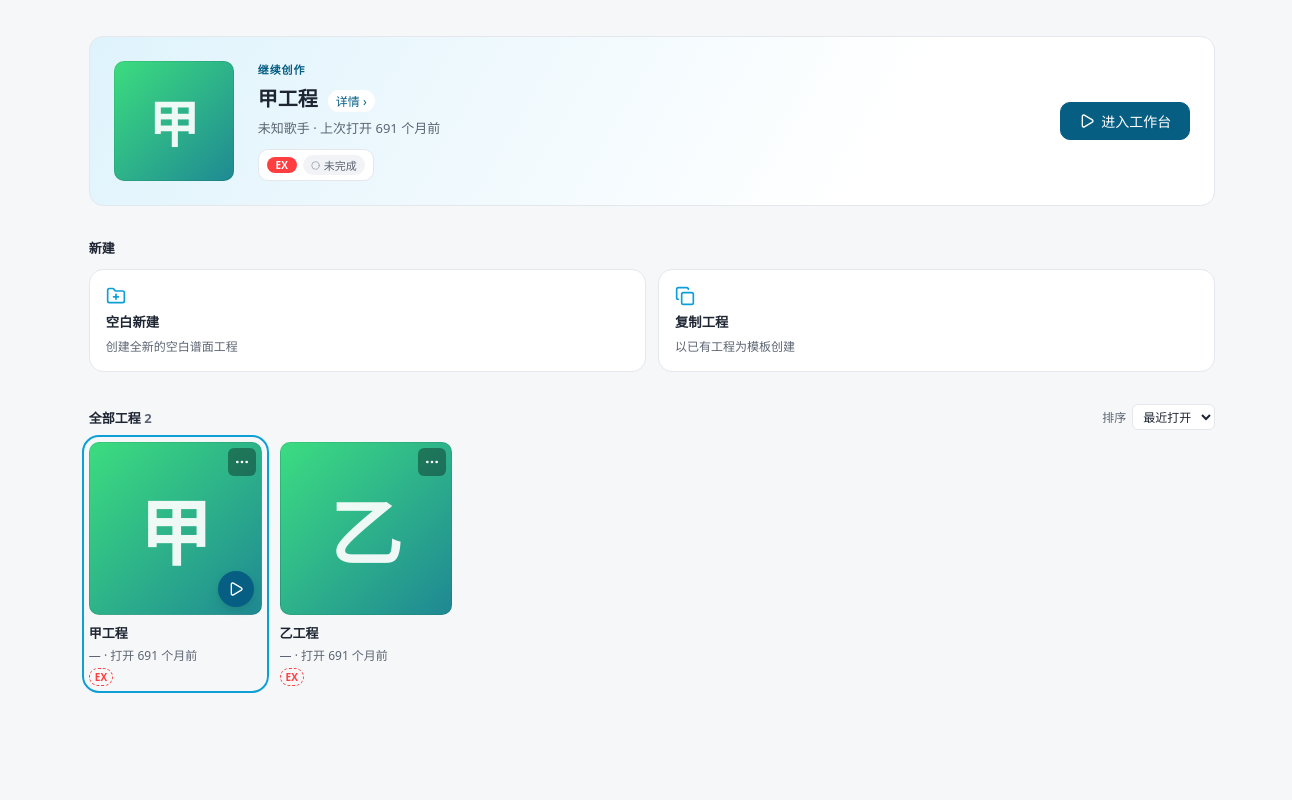
issue 23 #3 · 复制工程后的落点（bug） › 复制落点不把导航方向翻成 back（hub→detail 是前进）
The width and height of the screenshot is (1292, 800).
Check: the element showing "甲 甲工程 — · 打开 691 个月前 EX" is shown, box [89,442,262,686]
Click the 1st button titled "更多".
click(242, 462)  # box [228,448,256,476]
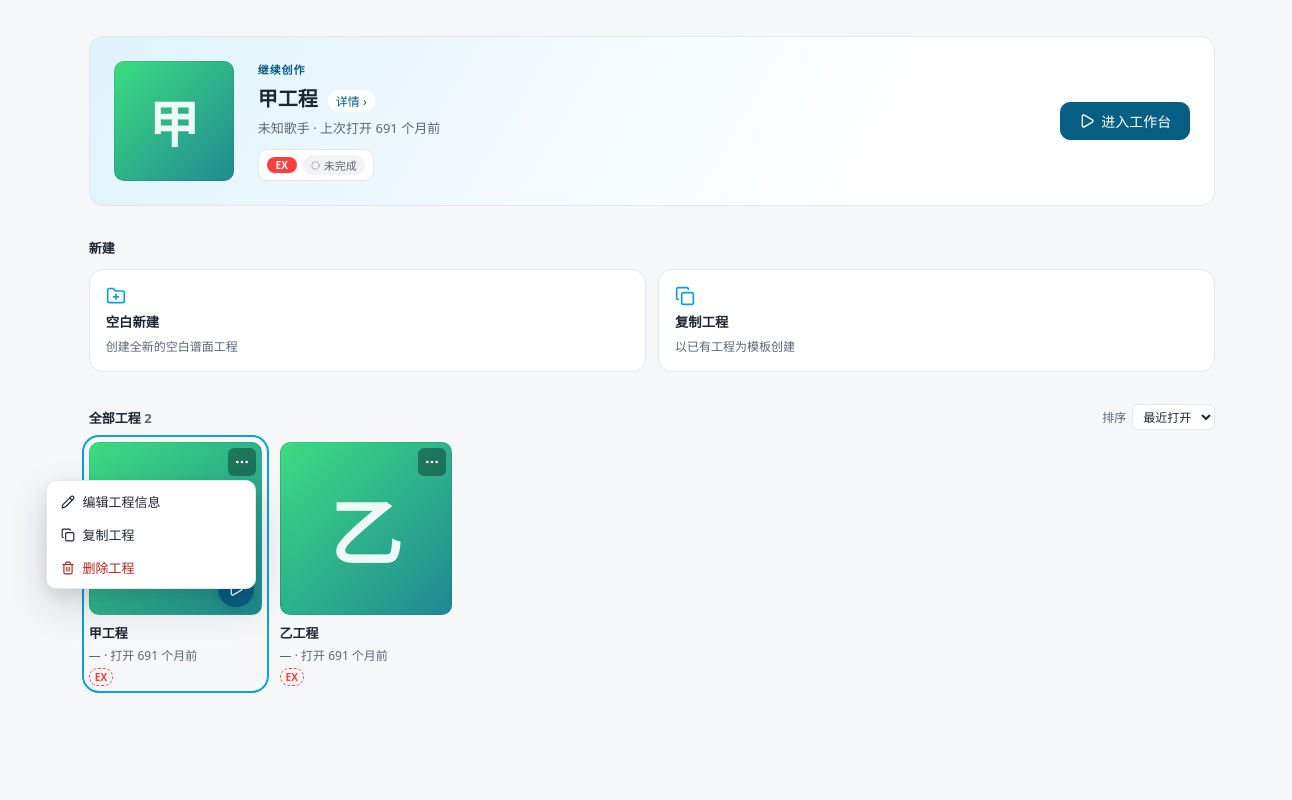
Click the button "复制工程".
click(150, 534)  # box [50,518,250,551]
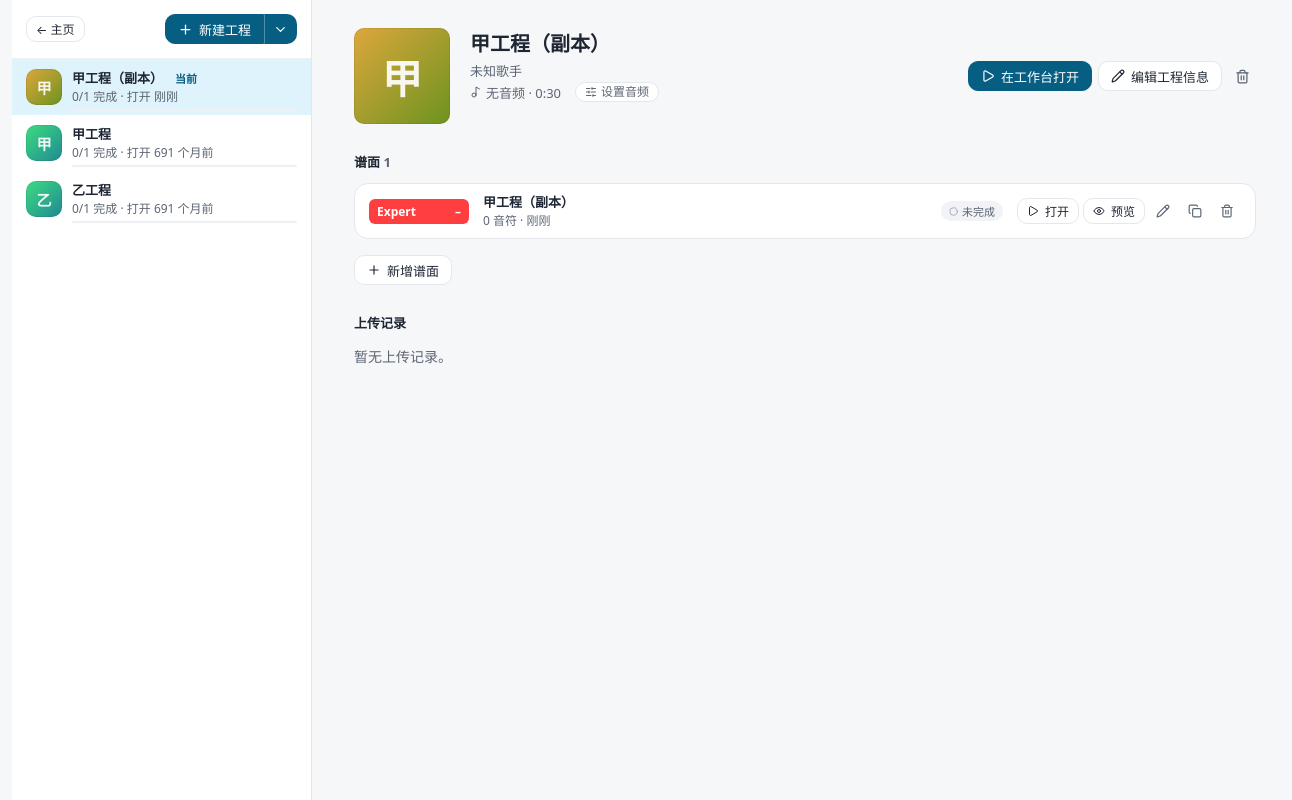
Check: the heading "甲工程（副本）" is shown, box [470,30,610,57]
